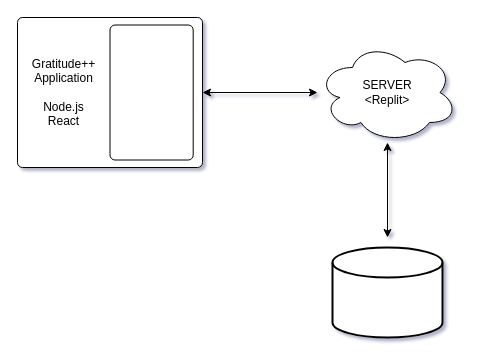
Image size: 481x362. Some labels were removed from this diagram. The shapes that lost their labels are listed below. From the top down, each one's box as (x1, y1, x2, y2) in pixels, then its label:
(109, 24, 193, 160): Web Browser (Chrome)
(331, 246, 443, 338): DATABASE <FireBase>
